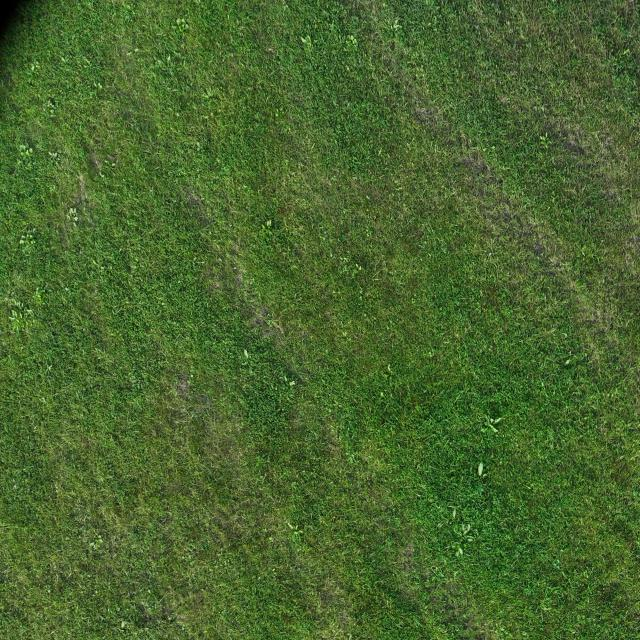rumex: (540, 344, 640, 495), (93, 326, 164, 407), (368, 352, 421, 440), (471, 410, 503, 483), (256, 212, 292, 260), (383, 12, 408, 47), (9, 304, 34, 334), (15, 139, 36, 168), (282, 515, 302, 542), (483, 415, 503, 436), (455, 518, 473, 541), (156, 58, 176, 78), (562, 348, 582, 368), (311, 15, 329, 37), (266, 63, 285, 83), (201, 87, 218, 109), (382, 362, 395, 390), (18, 231, 36, 250), (260, 219, 274, 241), (240, 346, 253, 369), (300, 32, 313, 54), (28, 59, 42, 79), (11, 300, 28, 316), (123, 4, 137, 23), (34, 287, 47, 307), (88, 536, 103, 550), (371, 269, 385, 284), (344, 35, 357, 51), (538, 132, 551, 148), (477, 458, 486, 478), (93, 79, 104, 93), (176, 17, 186, 31), (271, 322, 282, 334), (392, 20, 402, 33), (48, 150, 58, 163), (12, 318, 21, 332), (104, 152, 115, 162), (459, 539, 468, 550), (195, 258, 208, 265), (286, 521, 296, 530), (446, 542, 456, 551), (19, 142, 27, 153), (552, 559, 560, 570), (477, 483, 484, 495), (300, 36, 309, 45), (49, 104, 57, 114), (154, 58, 162, 68), (493, 416, 503, 424), (165, 54, 172, 65), (172, 108, 179, 119), (32, 61, 40, 70), (621, 48, 630, 56), (462, 611, 470, 620), (194, 141, 201, 151), (341, 232, 348, 242), (9, 310, 16, 320), (456, 547, 463, 557), (243, 348, 249, 359), (355, 264, 363, 272), (202, 92, 209, 101), (35, 289, 40, 301), (349, 454, 355, 464), (452, 508, 457, 520), (92, 259, 99, 267), (417, 65, 424, 73), (289, 379, 296, 387), (49, 185, 56, 193), (342, 208, 350, 215), (83, 57, 89, 66), (98, 171, 104, 180), (312, 19, 318, 28), (46, 364, 52, 373), (379, 390, 385, 399), (428, 349, 434, 358), (377, 148, 382, 158), (61, 56, 67, 64), (110, 160, 116, 168), (97, 536, 103, 544), (42, 288, 48, 296), (540, 134, 546, 142), (481, 425, 487, 433), (490, 146, 496, 154), (266, 219, 272, 227), (580, 250, 586, 258), (40, 396, 46, 404), (283, 4, 289, 12), (454, 544, 460, 552), (387, 364, 392, 373), (319, 235, 325, 242), (342, 330, 348, 337), (20, 235, 26, 242), (70, 208, 76, 215), (193, 0, 200, 6), (274, 109, 279, 117), (171, 23, 176, 31), (366, 194, 371, 202), (329, 252, 334, 260), (506, 21, 511, 29), (30, 64, 35, 72), (147, 587, 152, 595), (565, 358, 570, 366), (438, 522, 443, 530), (203, 115, 209, 121), (28, 148, 34, 154), (89, 542, 95, 548), (64, 287, 70, 293), (121, 620, 125, 629), (13, 483, 18, 490), (348, 632, 352, 640), (134, 48, 139, 54), (19, 239, 24, 245), (346, 66, 350, 73), (192, 257, 196, 264), (488, 251, 492, 258), (490, 417, 494, 424), (50, 110, 54, 116), (73, 220, 77, 226), (74, 216, 78, 222)
